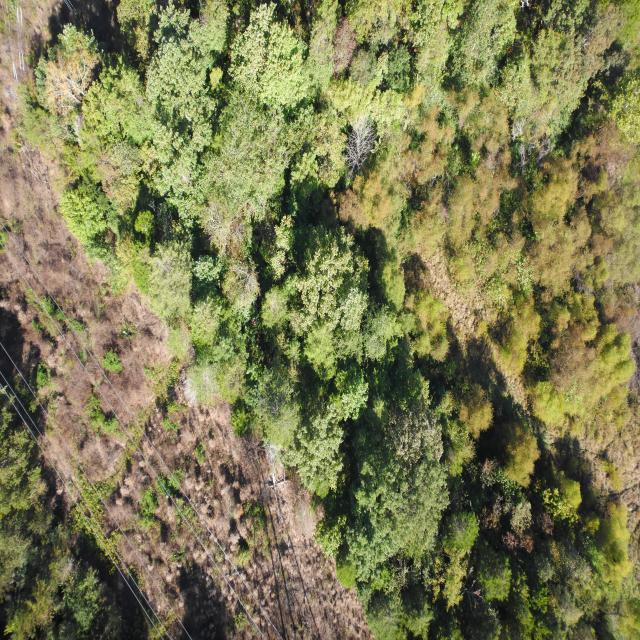Area of Interest: (39, 11, 640, 635)
